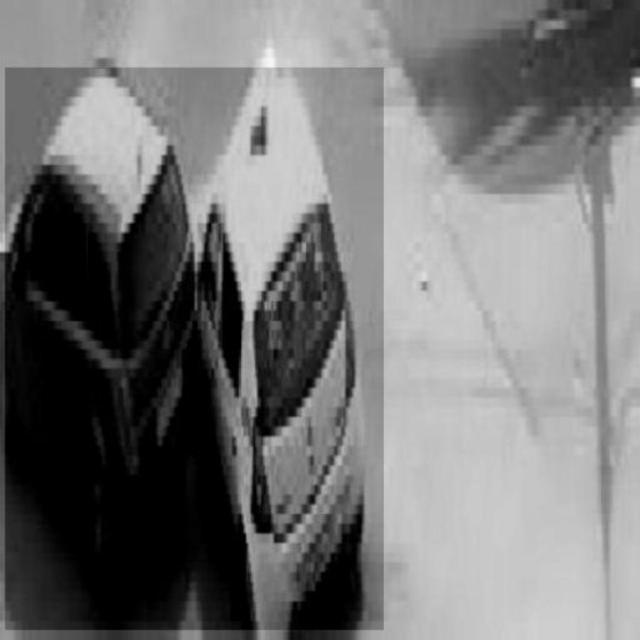accident: (5, 67, 383, 629)
